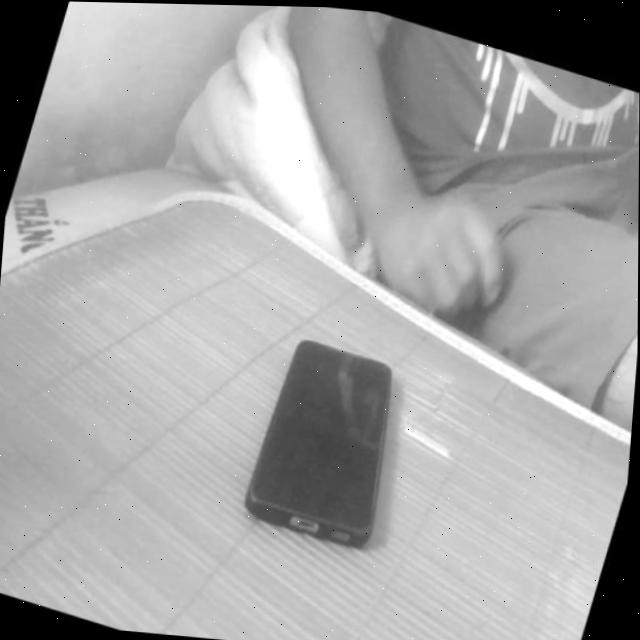phone: (217, 291, 444, 585)
